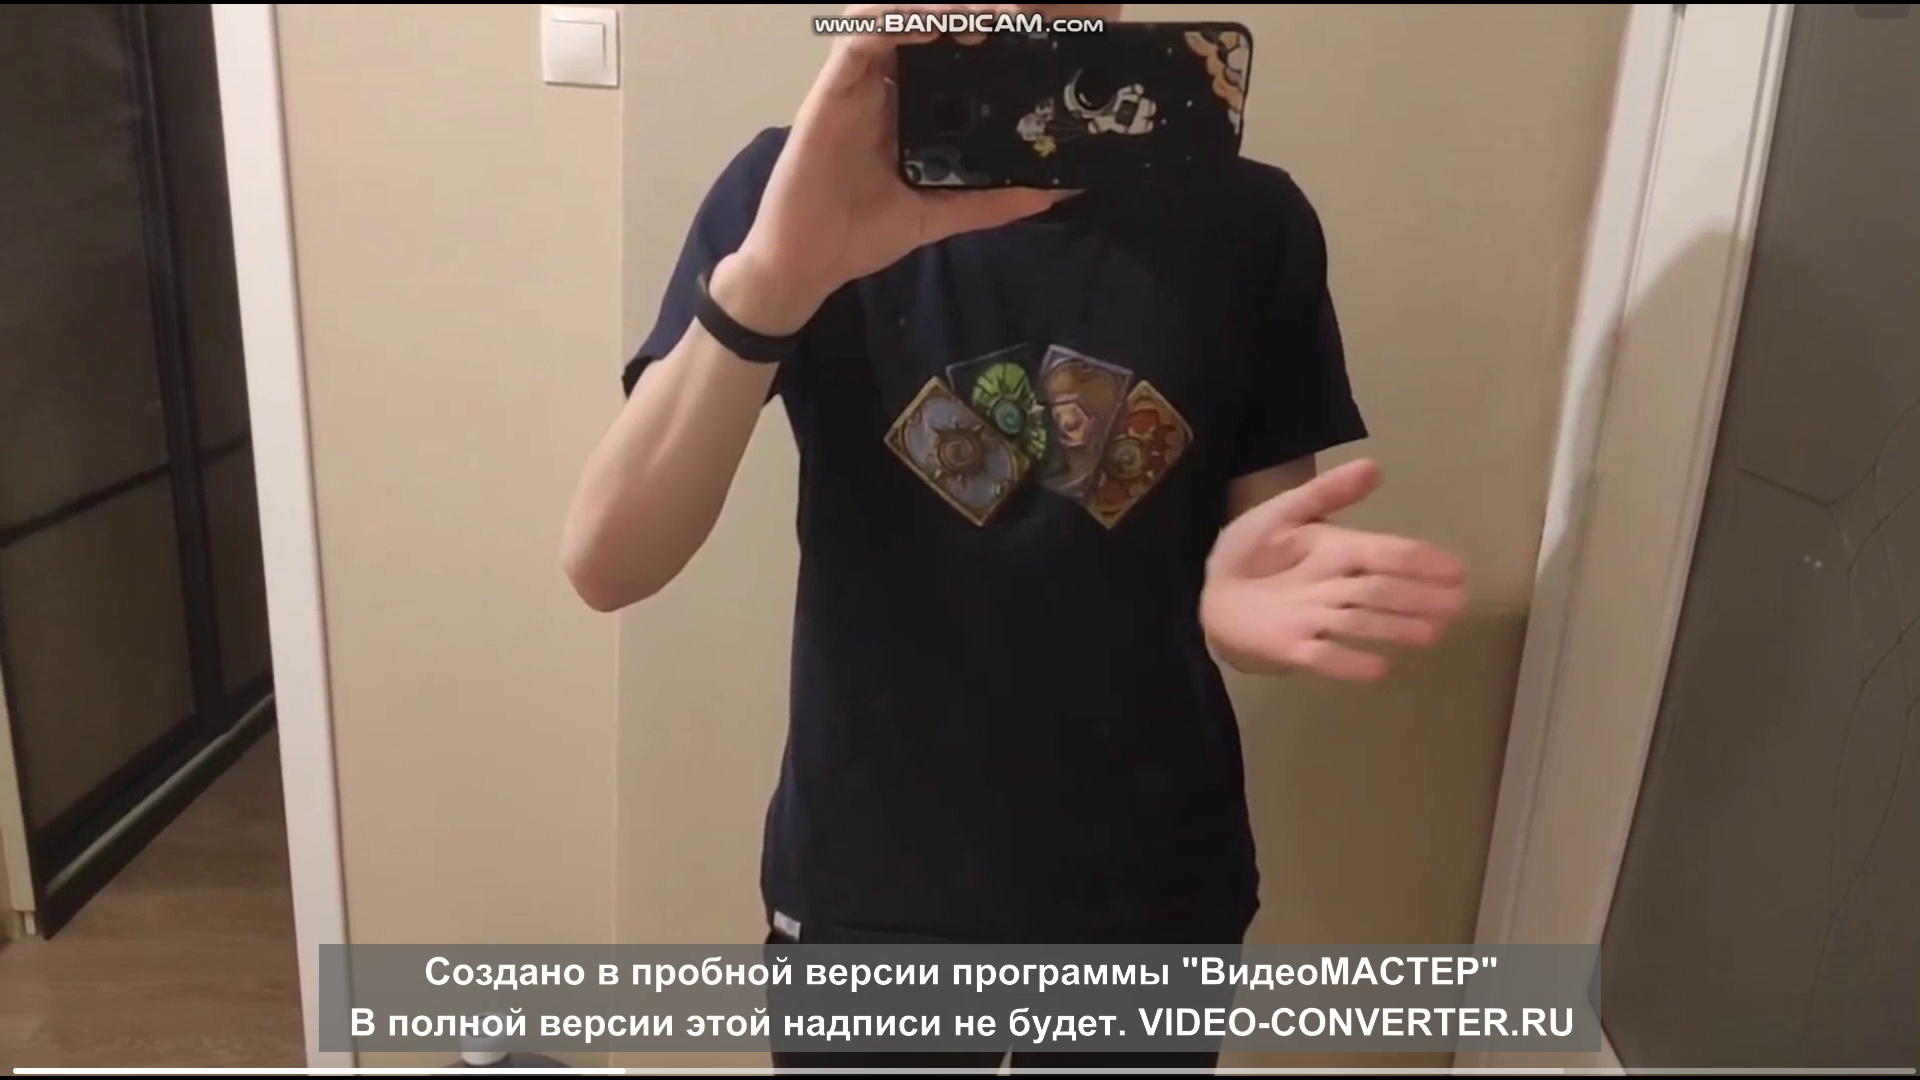Ладонь: (1193, 459, 1464, 687)
